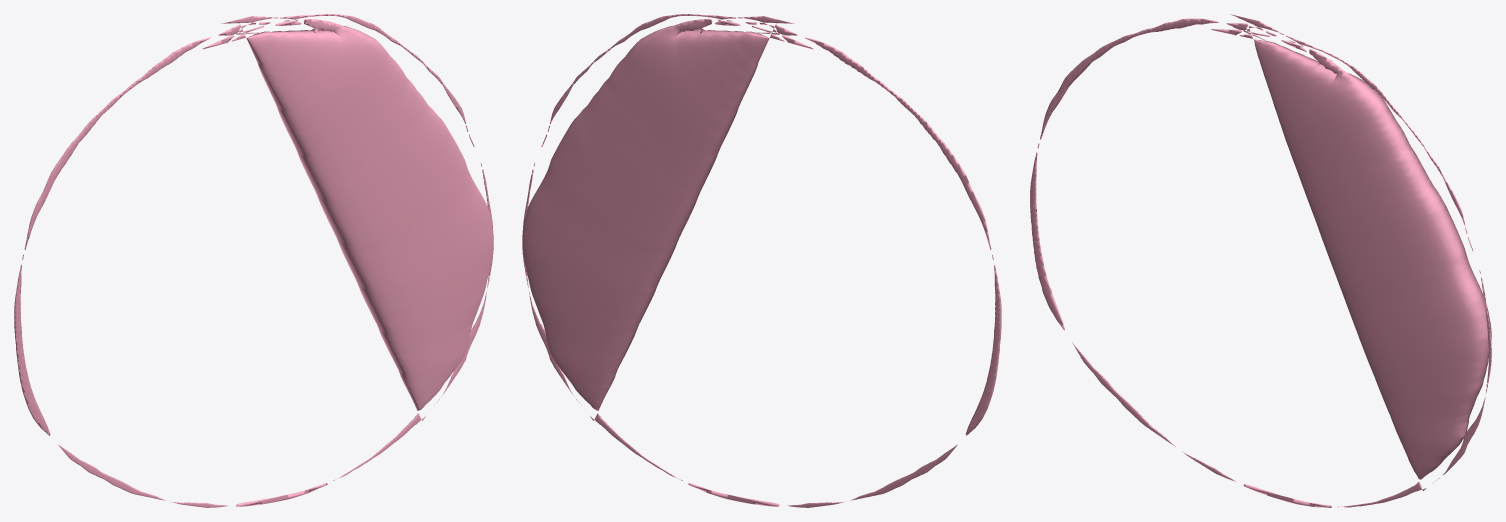
The model's file is Disc_2.fbx.
3 renders of one model, left to right at view 1: azimuth 30°, elevation 25°; view 2: azimuth 150°, elevation 25°; view 3: azimuth 330°, elevation 25°, orthographic. The views are drawn at different scales.
Visible parts, largest first — view 1: root; view 2: root; view 3: root.
Boxes of the visible parts, left/top/right/bottom form: root: left=14, top=14, right=493, bottom=507; root: left=522, top=14, right=1001, bottom=507; root: left=1030, top=14, right=1491, bottom=507.
Bounding box in the file's own units: 0.4169 × 0.4091 × 0.0562.
